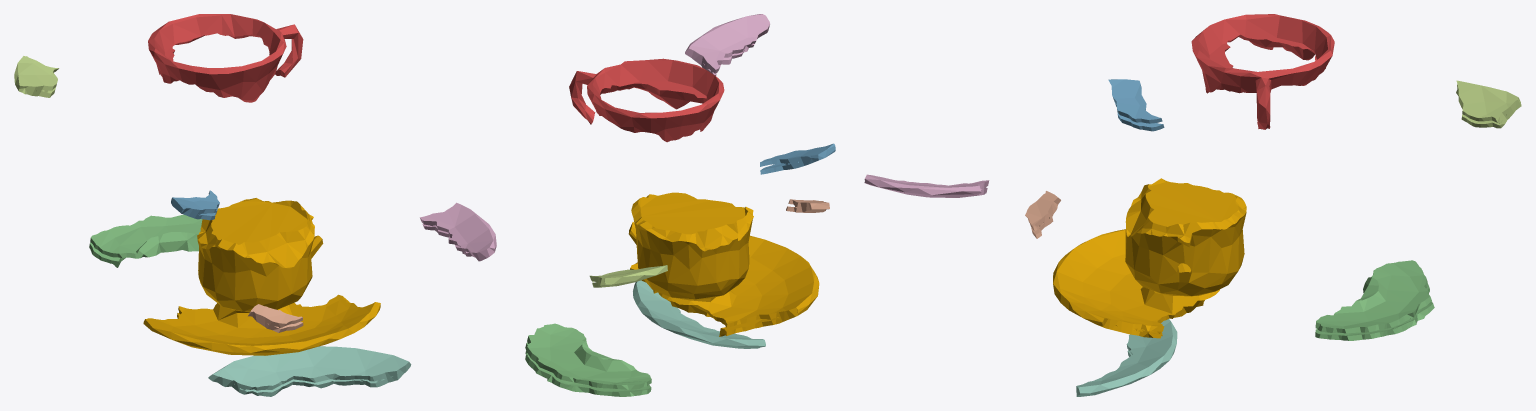
Rendered from mode_16_8pcs_transformed.glb.
3 renders of one model, left to right at view 1: azimuth 30°, elevation 25°; view 2: azimuth 150°, elevation 25°; view 3: azimuth 270°, elevation 25°, orthographic. The views are drawn at different scales.
Parts seen in each view (by area): view 1: piece_0.obj, piece_1.obj, piece_4.obj, piece_3.obj, piece_6.obj, piece_5.obj, piece_7.obj, piece_2.obj; view 2: piece_0.obj, piece_1.obj, piece_3.obj, piece_6.obj, piece_4.obj, piece_2.obj, piece_5.obj, piece_7.obj; view 3: piece_0.obj, piece_1.obj, piece_3.obj, piece_4.obj, piece_5.obj, piece_2.obj, piece_6.obj, piece_7.obj.
Boxes of the visible parts, x1=… form: piece_0.obj: x1=143, y1=198, x2=380, y2=355; piece_1.obj: x1=148, y1=14, x2=303, y2=102; piece_4.obj: x1=208, y1=346, x2=411, y2=396; piece_3.obj: x1=89, y1=214, x2=202, y2=267; piece_6.obj: x1=420, y1=202, x2=496, y2=261; piece_5.obj: x1=14, y1=56, x2=58, y2=97; piece_7.obj: x1=248, y1=304, x2=303, y2=332; piece_2.obj: x1=171, y1=190, x2=219, y2=220; piece_0.obj: x1=628, y1=192, x2=819, y2=336; piece_1.obj: x1=569, y1=58, x2=724, y2=142; piece_3.obj: x1=525, y1=323, x2=651, y2=396; piece_6.obj: x1=685, y1=14, x2=769, y2=75; piece_4.obj: x1=633, y1=280, x2=765, y2=348; piece_2.obj: x1=760, y1=143, x2=835, y2=174; piece_5.obj: x1=589, y1=265, x2=667, y2=287; piece_7.obj: x1=786, y1=199, x2=829, y2=212; piece_0.obj: x1=1053, y1=178, x2=1246, y2=338; piece_1.obj: x1=1191, y1=14, x2=1334, y2=129; piece_3.obj: x1=1315, y1=260, x2=1434, y2=340; piece_4.obj: x1=1076, y1=319, x2=1177, y2=396; piece_5.obj: x1=1456, y1=80, x2=1521, y2=128; piece_2.obj: x1=1108, y1=79, x2=1164, y2=131; piece_6.obj: x1=864, y1=174, x2=989, y2=197; piece_7.obj: x1=1025, y1=191, x2=1060, y2=238.
Bounding box in the file's own units: 1 × 1.33 × 2.49.
